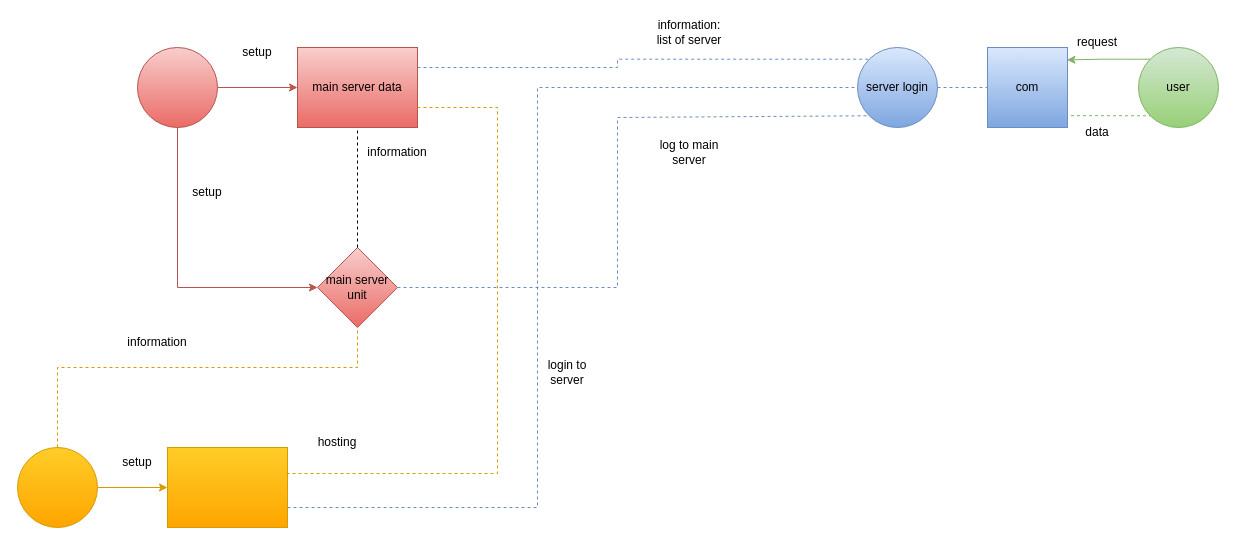
Some shapes in this 1236 by 545 pixel diagram are drawn without their labels. Each missing label, with the box of its shape:
main server manager: (136, 46, 218, 128)
server data: (166, 446, 288, 528)
server host: (16, 446, 98, 528)
